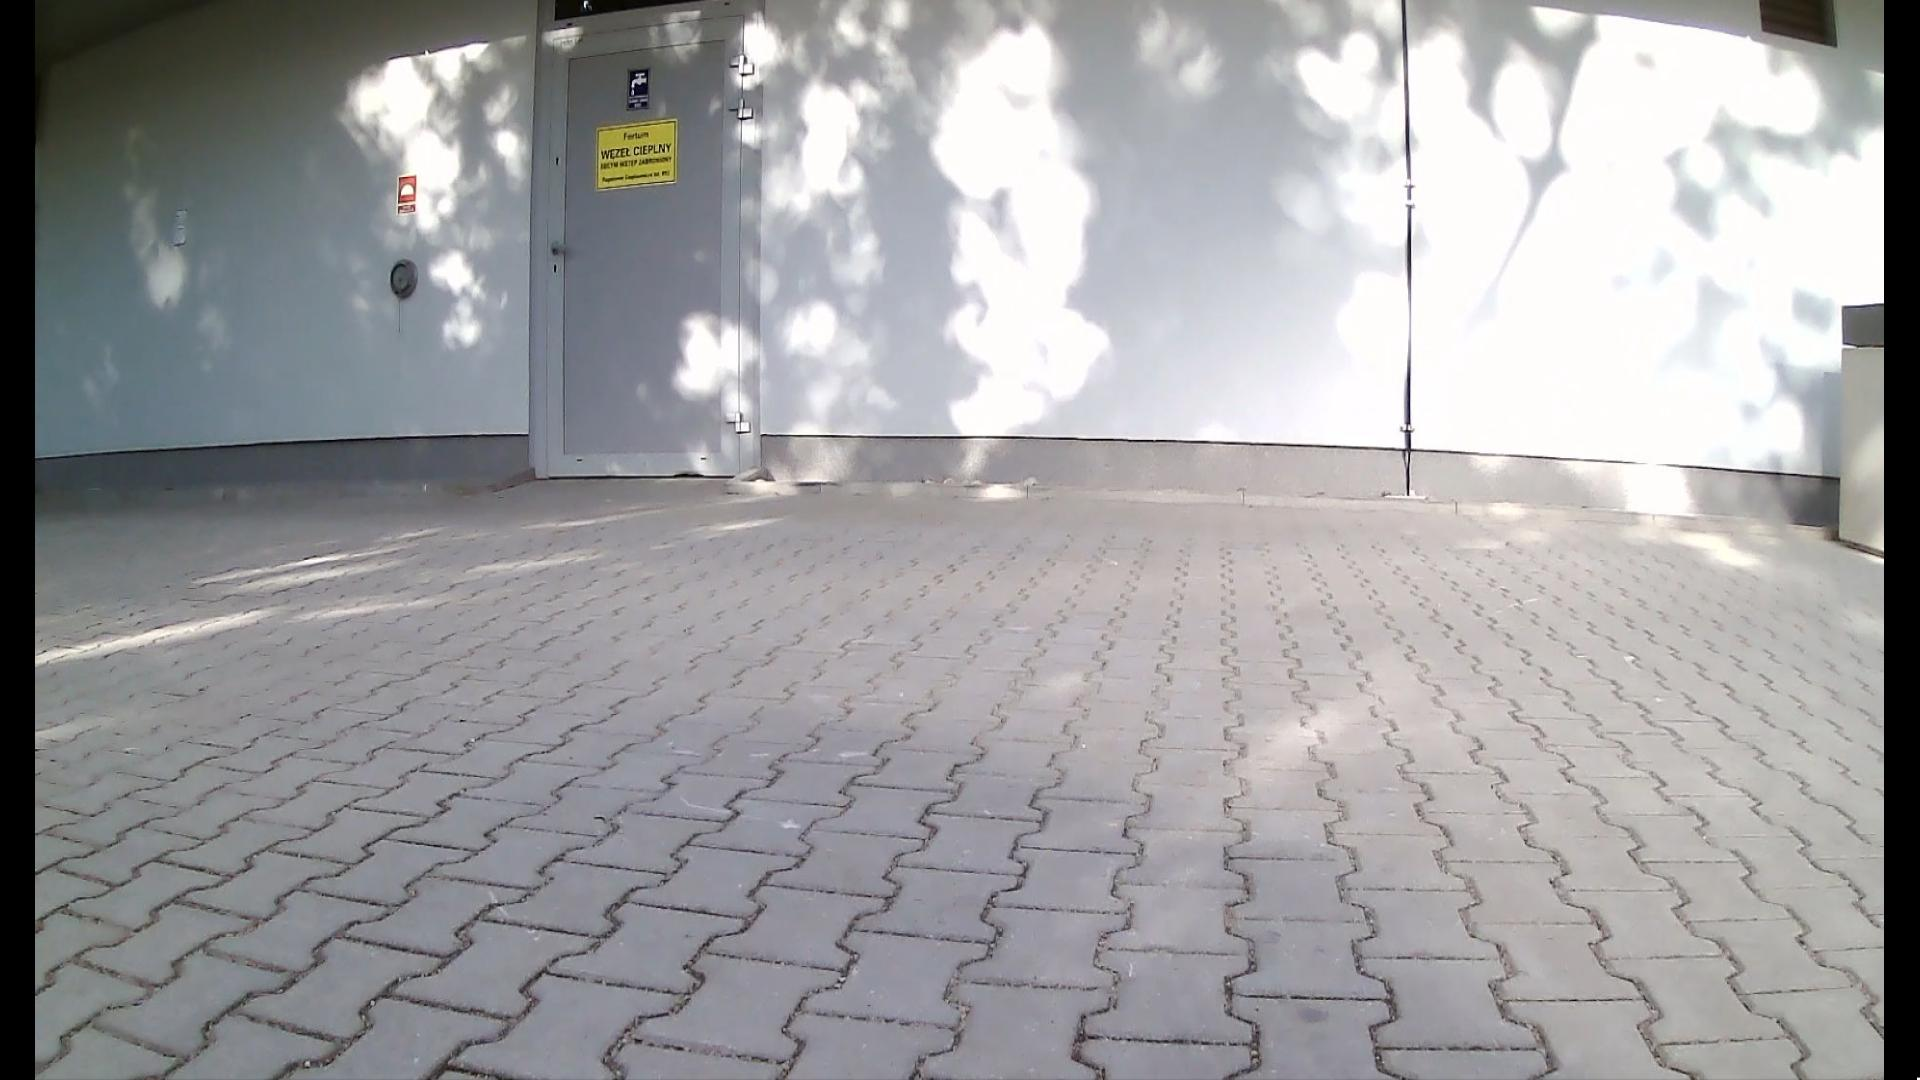wall: (774, 12, 1389, 480)
